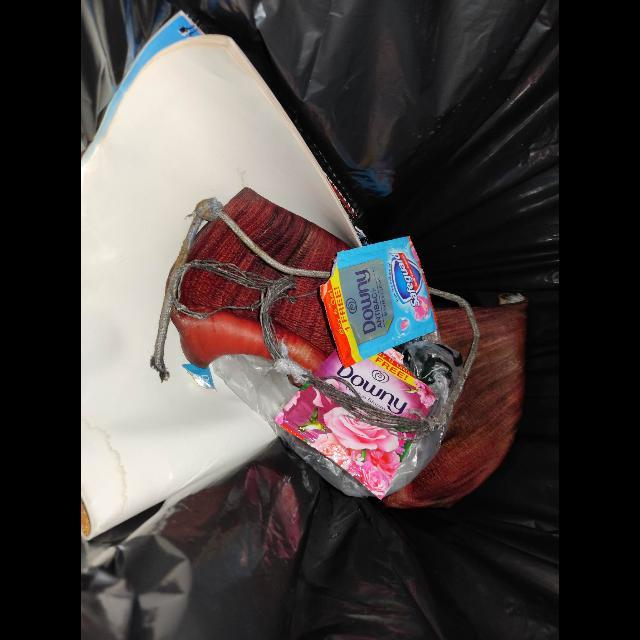biowaste: (166, 184, 357, 371), (385, 302, 526, 509), (307, 370, 311, 377)
paper: (81, 13, 367, 542)
wrapper: (276, 351, 436, 498), (318, 236, 438, 369)
